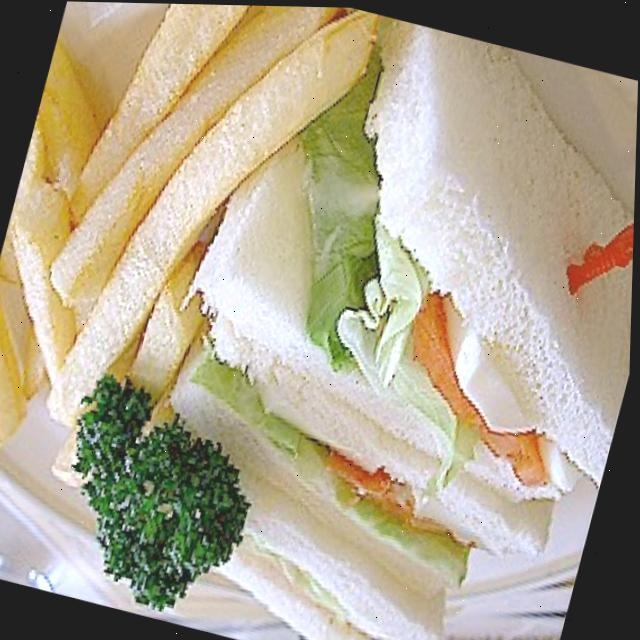三明治: (97, 2, 640, 640)
